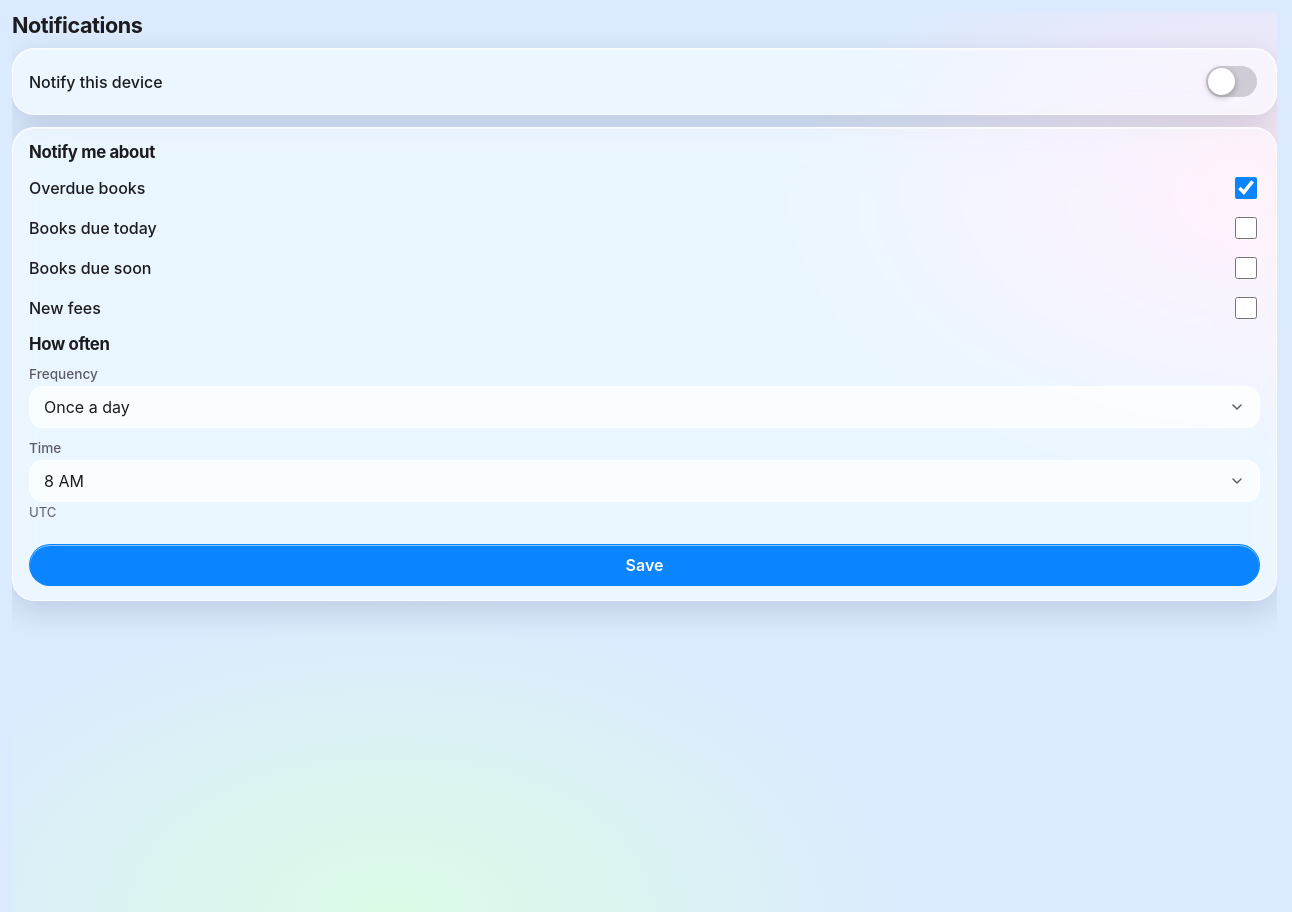
Notifications › subscribes and unsubscribes this device
The width and height of the screenshot is (1292, 912).
Later steps or results of the test are not shown.
Click the switch at (1232,82), box [1206,66,1257,97]
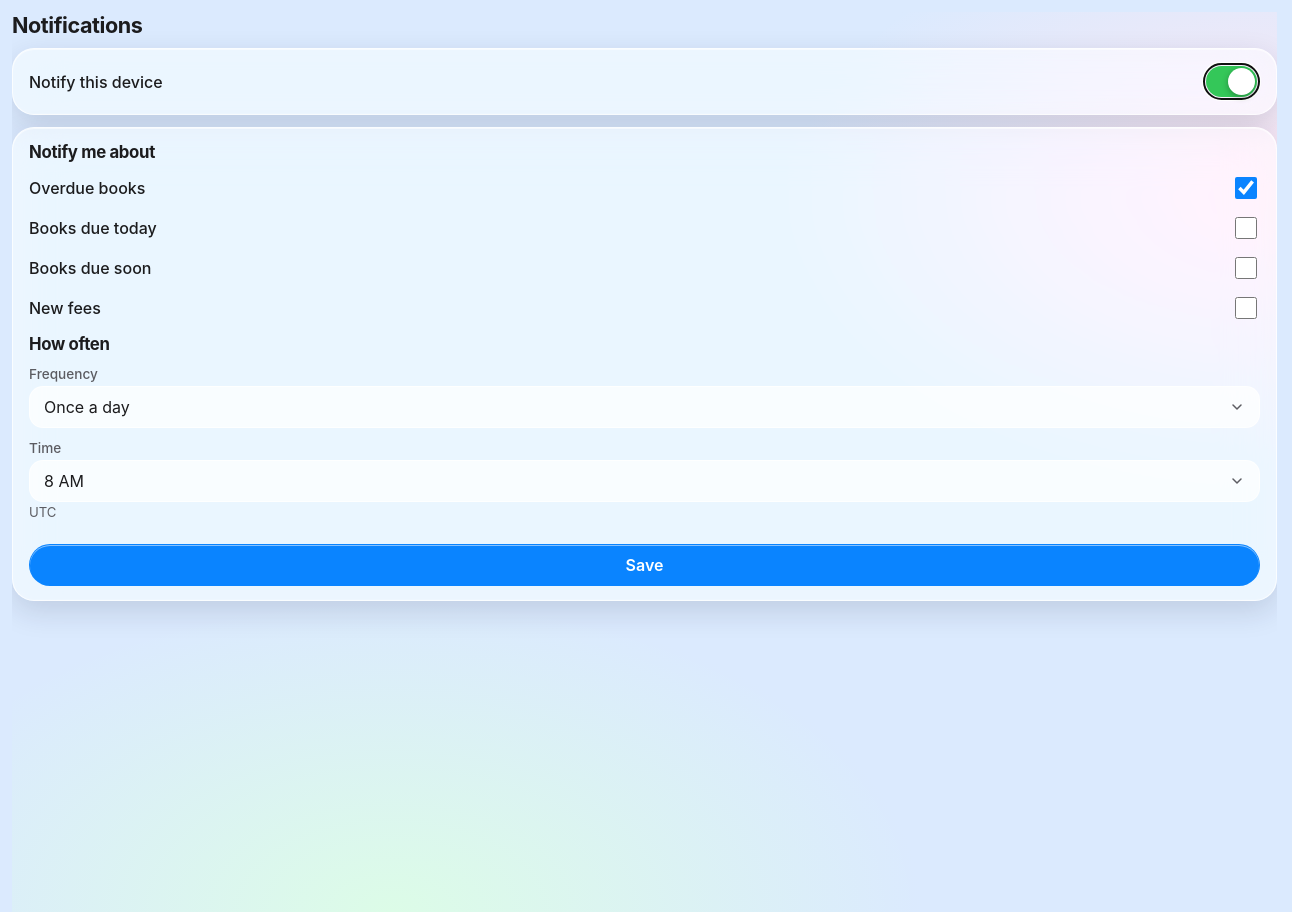
Result: the switch is checked at [1206,66,1257,97]
